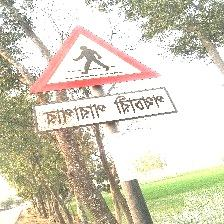Pedestrian-crossing: (29, 25, 175, 133)
